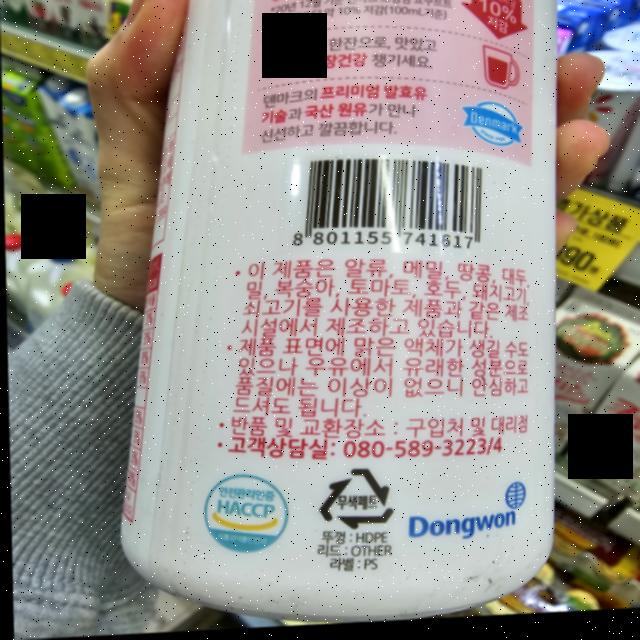ColorlessPET: (311, 468, 392, 536)
